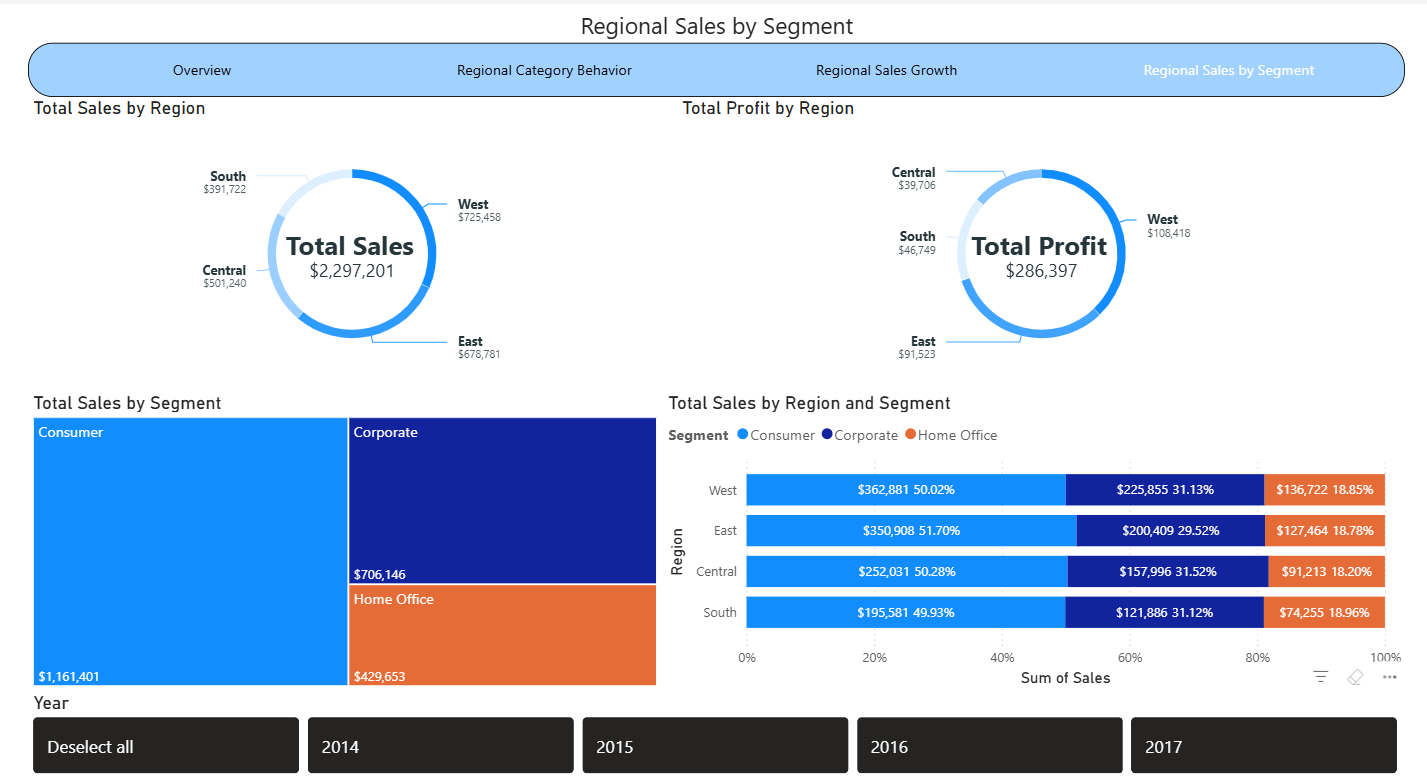

The page's visual inventory and layout, read from the dashboard file:
{"tool":"powerbi","page":{"name":"Regional Sales by Segment","canvas":[1280,720],"ordinal":3},"visuals":[{"type":"textbox","box":[0,0,1280,48.6],"z":0},{"type":"treemap","title":"Total Sales by Segment","fields":{"Values":["Sum(Superstore.Sales)"],"Group":["Superstore.Segment"]},"box":[0,359.5,589.4,278.8],"z":1000},{"type":"hundredPercentStackedBarChart","title":"Total Sales by Region and Segment","fields":{"Category":["Superstore.Region"],"Y":["Sum(Superstore.Sales)"],"Series":["Superstore.Segment"]},"box":[589.4,359.5,690.9,278.8],"z":2000},{"type":"donutE4A86F3675B84D178C45F7E034E25D6A","title":"Total Sales by Region","fields":{"metric":["Sum(Superstore.Sales)"],"key":["Superstore.Region"]},"box":[0,85.6,602.9,273.9],"z":3000},{"type":"advancedSlicerVisual","fields":{"Values":["Superstore.Year"]},"box":[0,638.3,1280.3,81.9],"z":4000},{"type":"donutE4A86F3675B84D178C45F7E034E25D6A","title":"Total Profit by Region","fields":{"key":["Superstore.Region"],"metric":["Sum(Superstore.Profit)"]},"box":[602.9,85.6,677.4,273.9],"z":5000},{"type":"pageNavigator","box":[0,35.5,1279.1,50.1],"z":6000}]}

Visuals, with their boxes on the page's 1280x720 design canvas (x1, y1, x2, y2). These are canvas units, not pixel positions in the 1427x777 screenshot, which may show the page scaled, cropped or inside an application window:
textbox: pyautogui.locateOnScreen(0, 0, 1280, 49)
"Total Sales by Segment" treemap: pyautogui.locateOnScreen(0, 360, 589, 638)
"Total Sales by Region and Segment" hundredPercentStackedBarChart: pyautogui.locateOnScreen(589, 360, 1280, 638)
"Total Sales by Region" donutE4A86F3675B84D178C45F7E034E25D6A: pyautogui.locateOnScreen(0, 86, 603, 360)
advancedSlicerVisual - Superstore.Year: pyautogui.locateOnScreen(0, 638, 1280, 720)
"Total Profit by Region" donutE4A86F3675B84D178C45F7E034E25D6A: pyautogui.locateOnScreen(603, 86, 1280, 360)
pageNavigator: pyautogui.locateOnScreen(0, 36, 1279, 86)
